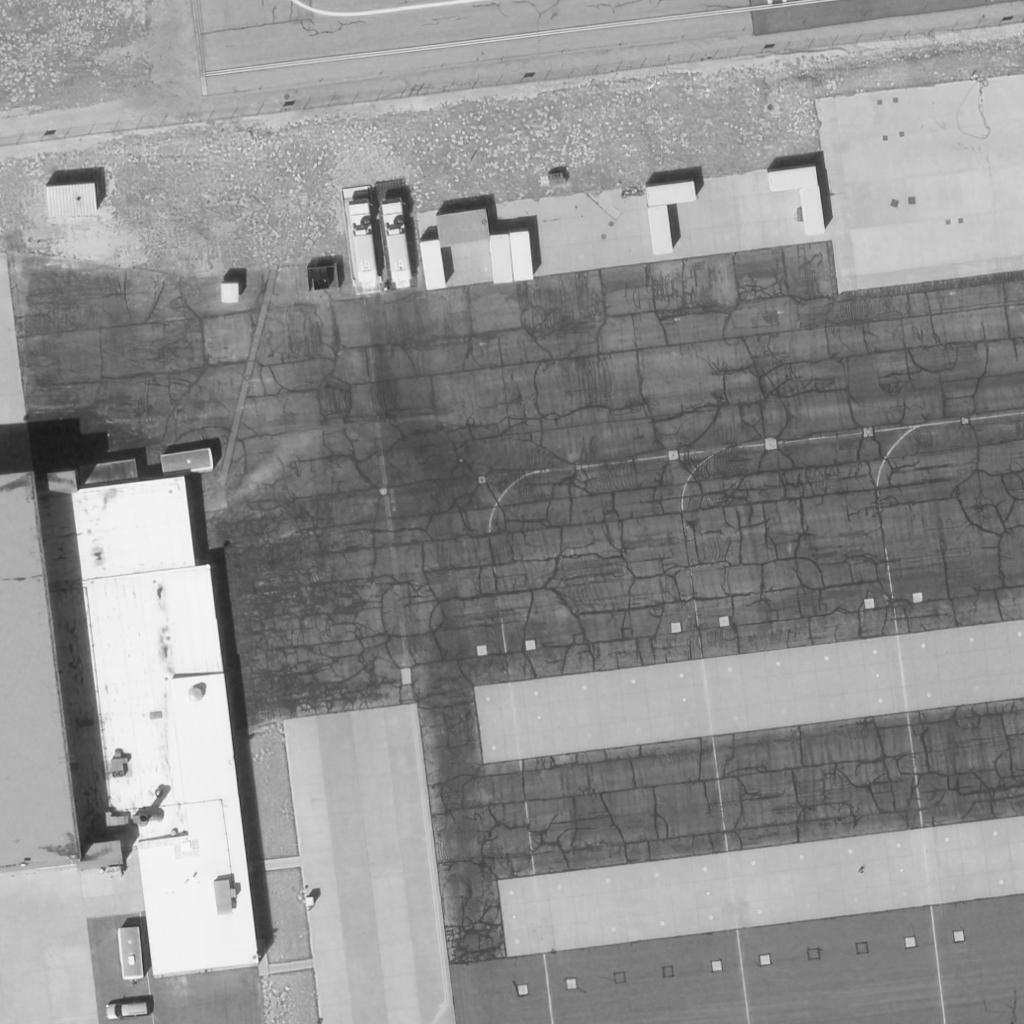vehicle: (120, 926, 144, 980), (105, 1000, 149, 1022)
